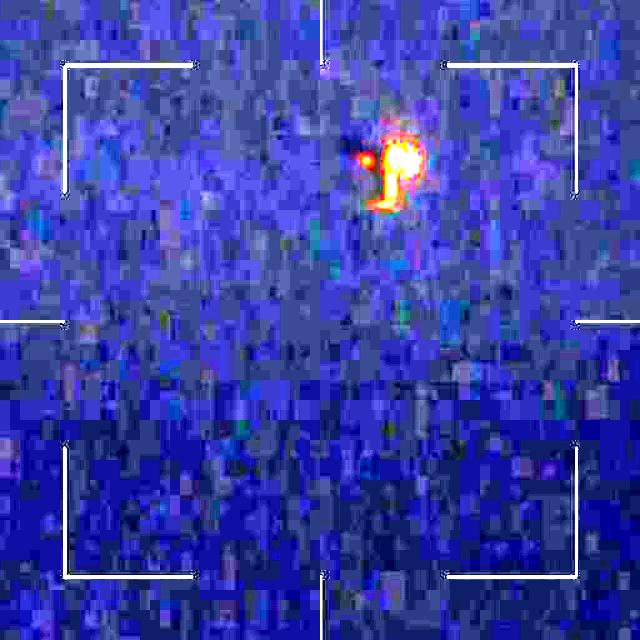bird: (346, 139, 422, 206)
